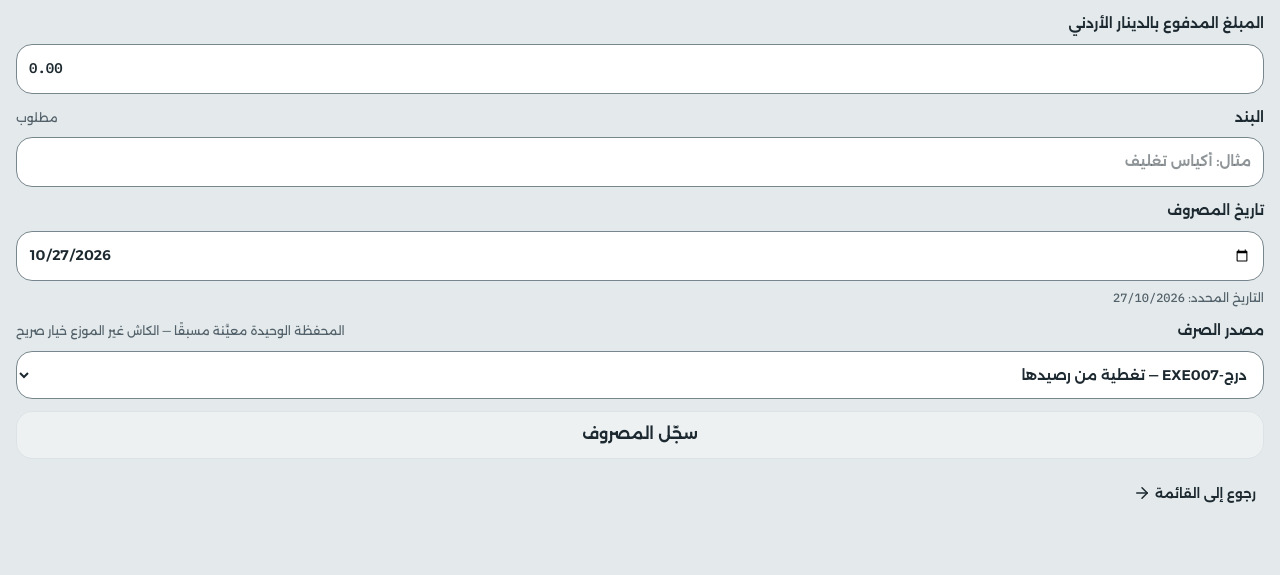
Test case: EXE-007 — quick sheet is the compact mode of the same expense journey › double-clicking save records one expense and one wallet coverage only
Type "3" into the field named "مبلغ المصروف" at (640, 69), box [16,44,1264,94]
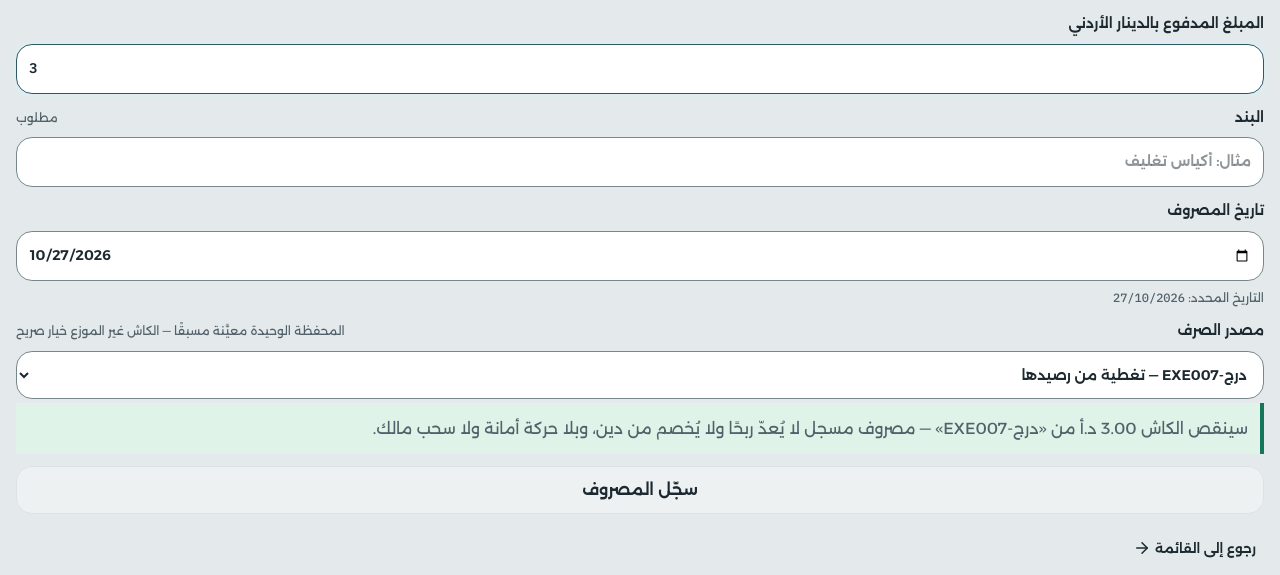
Type "نقرة مزدوجة" into the field labelled "البند مطلوب" at (640, 162), box [16,137,1264,187]
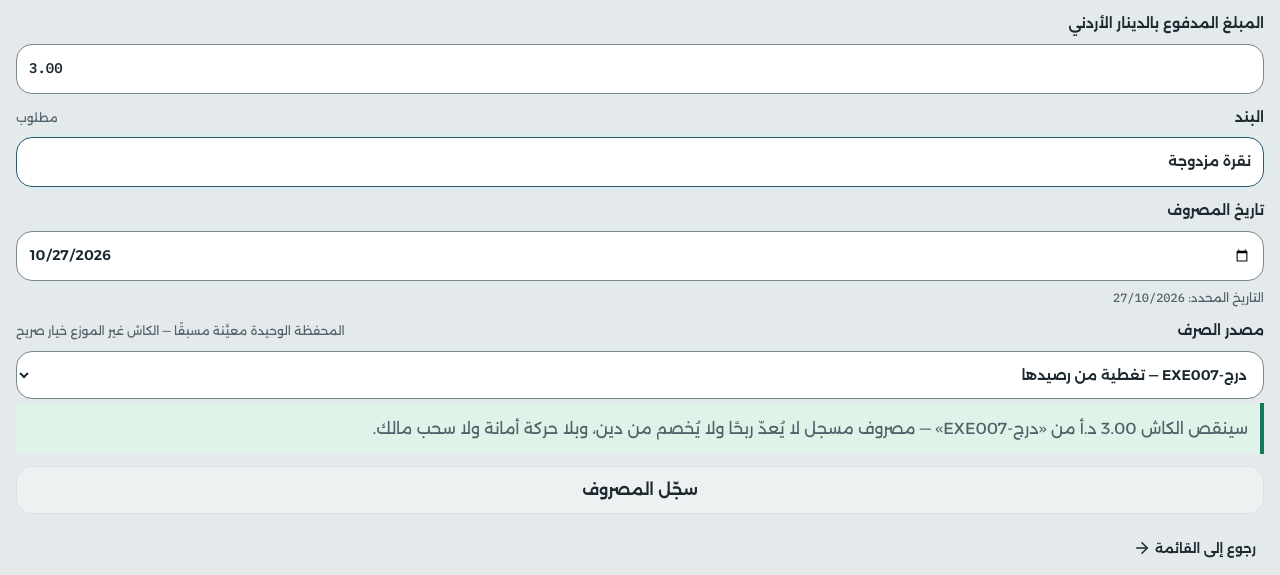
Click the button "سجّل المصروف" at (640, 490), box [16,466,1264,514]
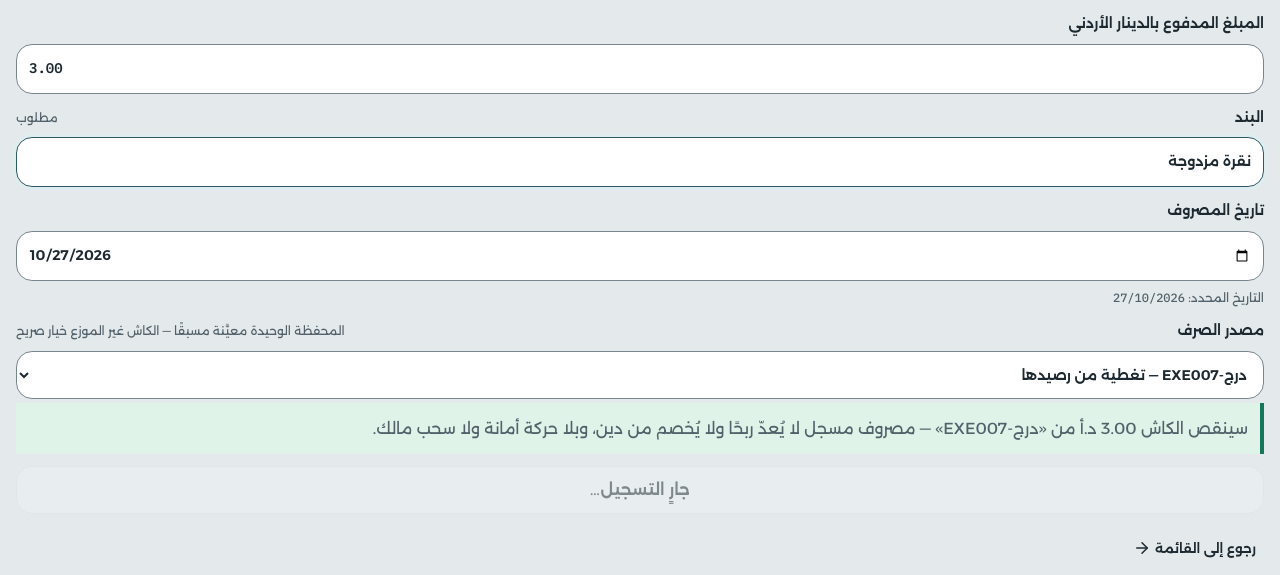
Click the button named "سجّل المصروف" at (640, 490), box [16,466,1264,514]
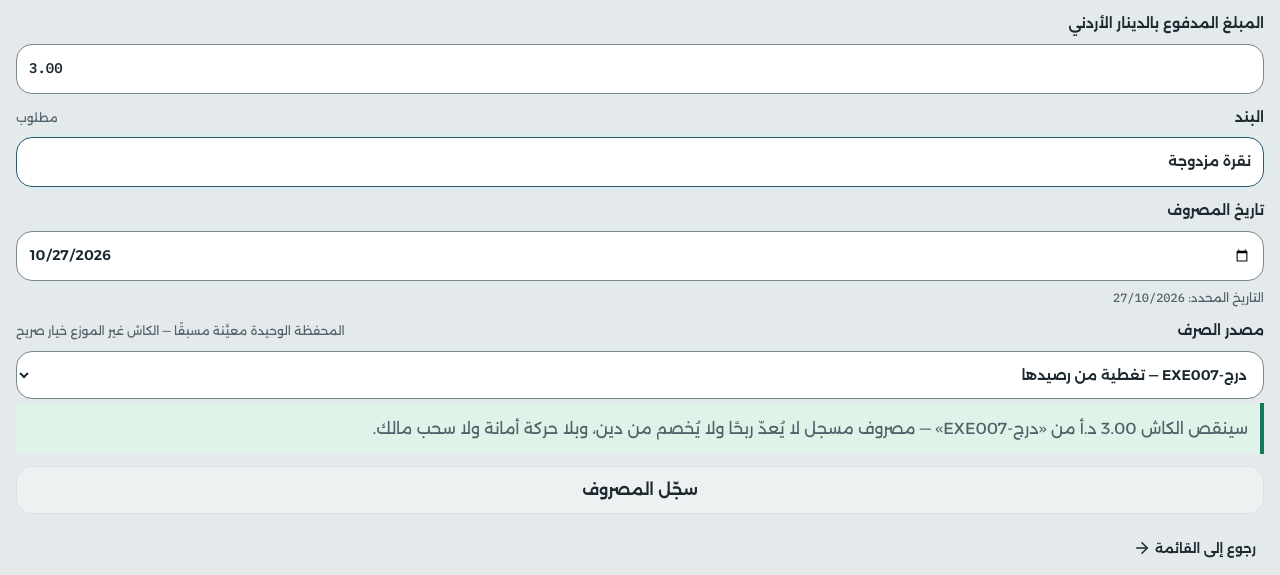
Expected: the button "سجّل المصروف" is enabled, [16,466,1264,514]
